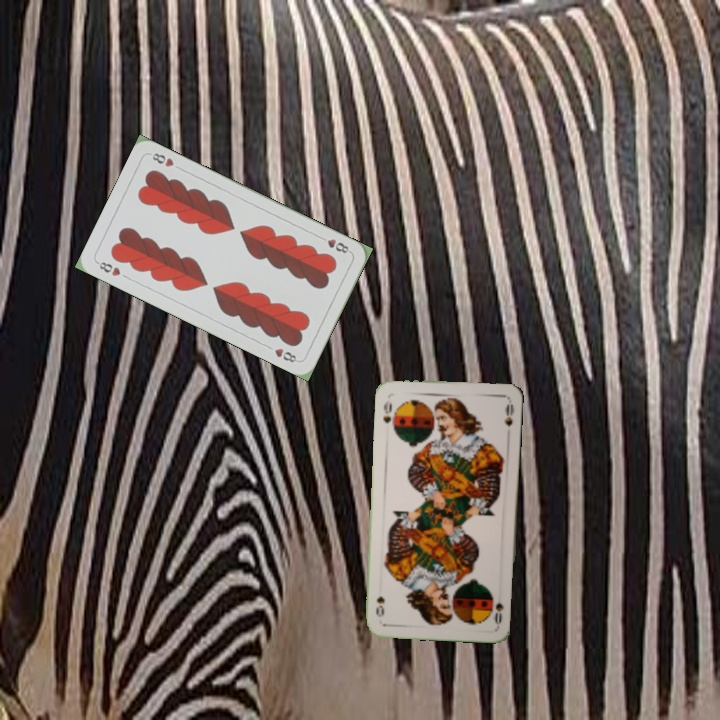H8: (315, 232, 353, 256), (93, 257, 123, 279)
SO: (379, 396, 397, 434), (491, 598, 506, 627)
